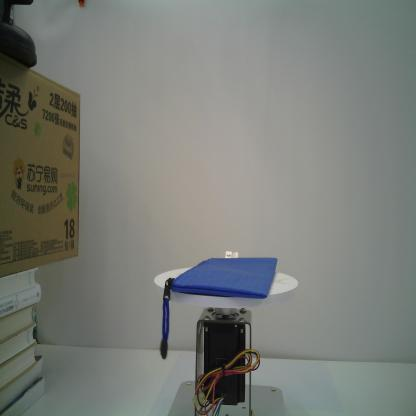Stationery: (159, 249, 279, 361)
